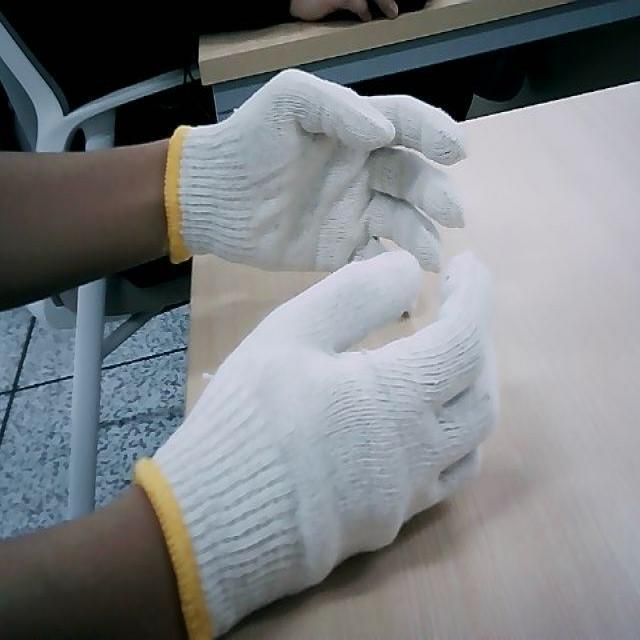glove: (132, 244, 498, 638), (163, 67, 467, 274)
